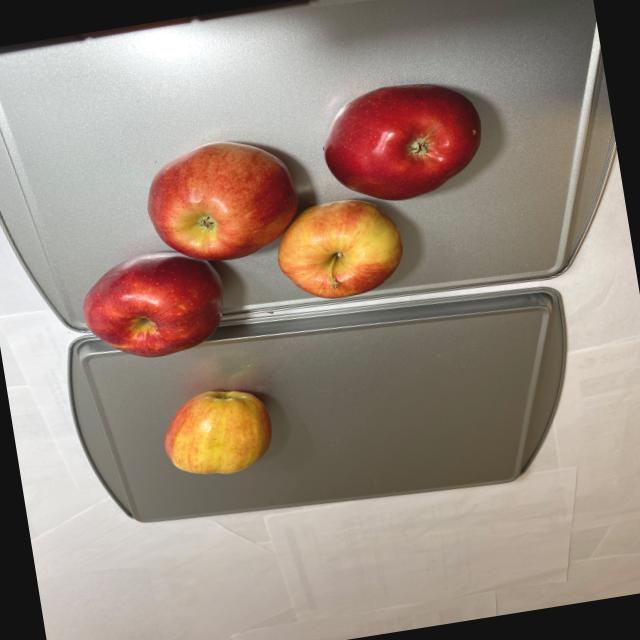apple: (58, 71, 515, 369), (154, 378, 281, 482)
